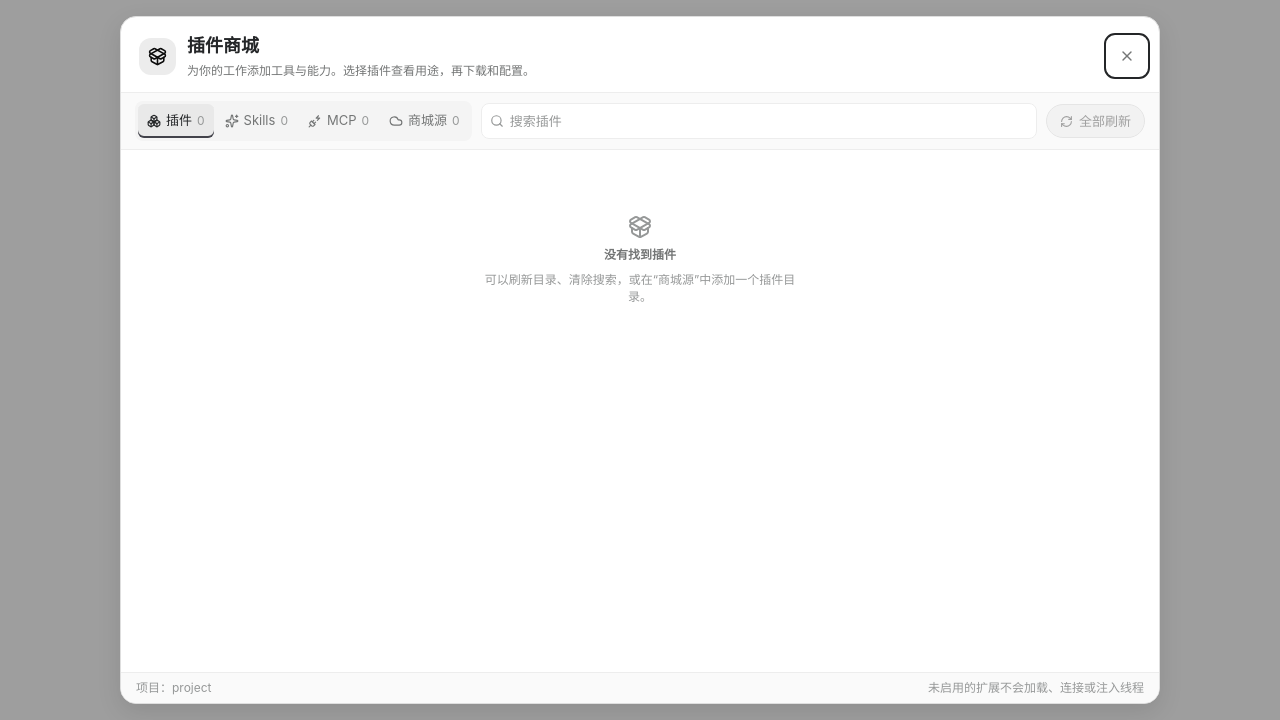
Test case: live MCP tool preview › updates an already open preview after refresh without reopening it
Click the button "MCP 0" at (339, 121), box [299, 104, 378, 138]
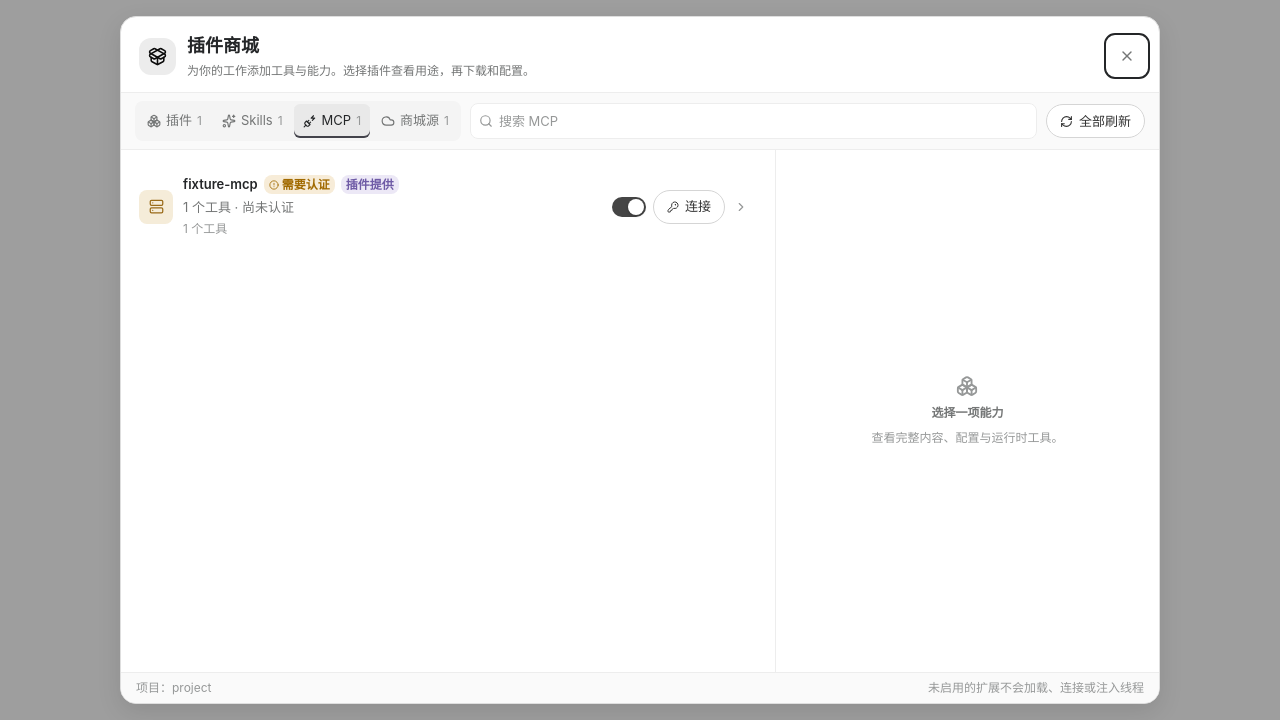
Click the button with aria-label "查看 fixture-mcp 详情" at (156, 206), box [132, 168, 605, 245]
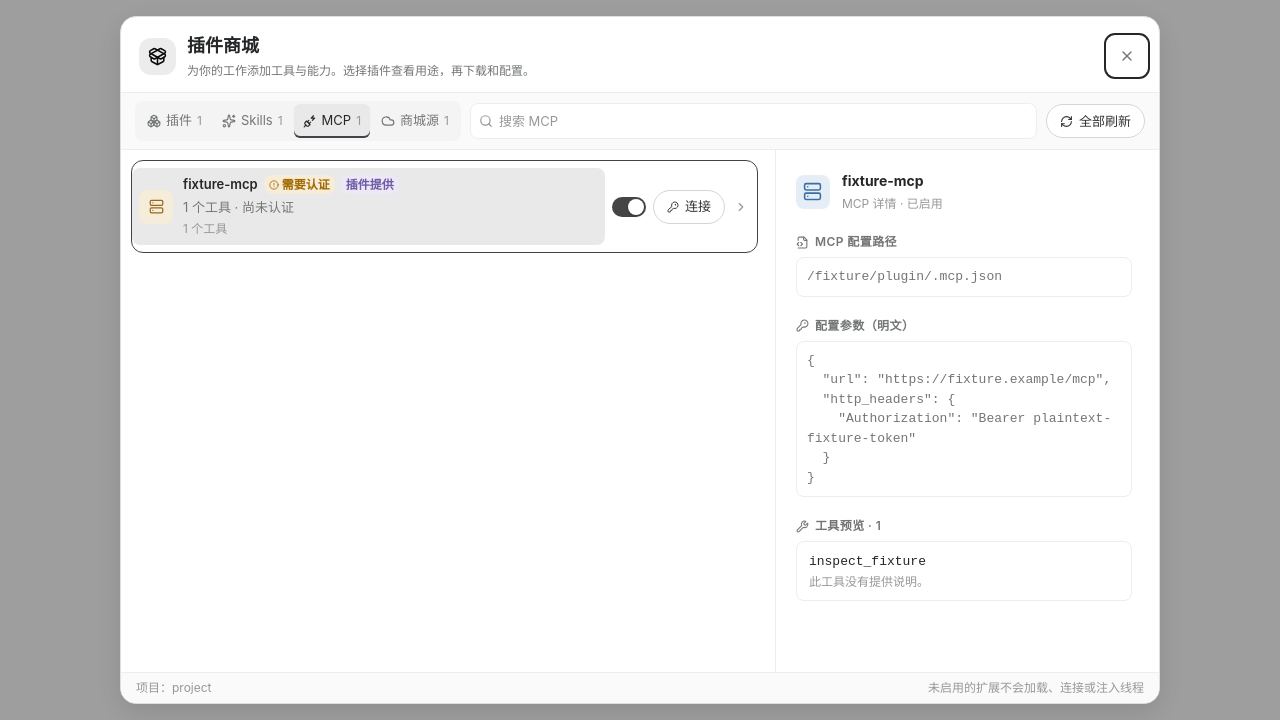
Expected: the text "inspect_fixture" is shown, [809, 552, 929, 572]
Click the button "全部刷新" at (1096, 121), box [1046, 104, 1145, 138]
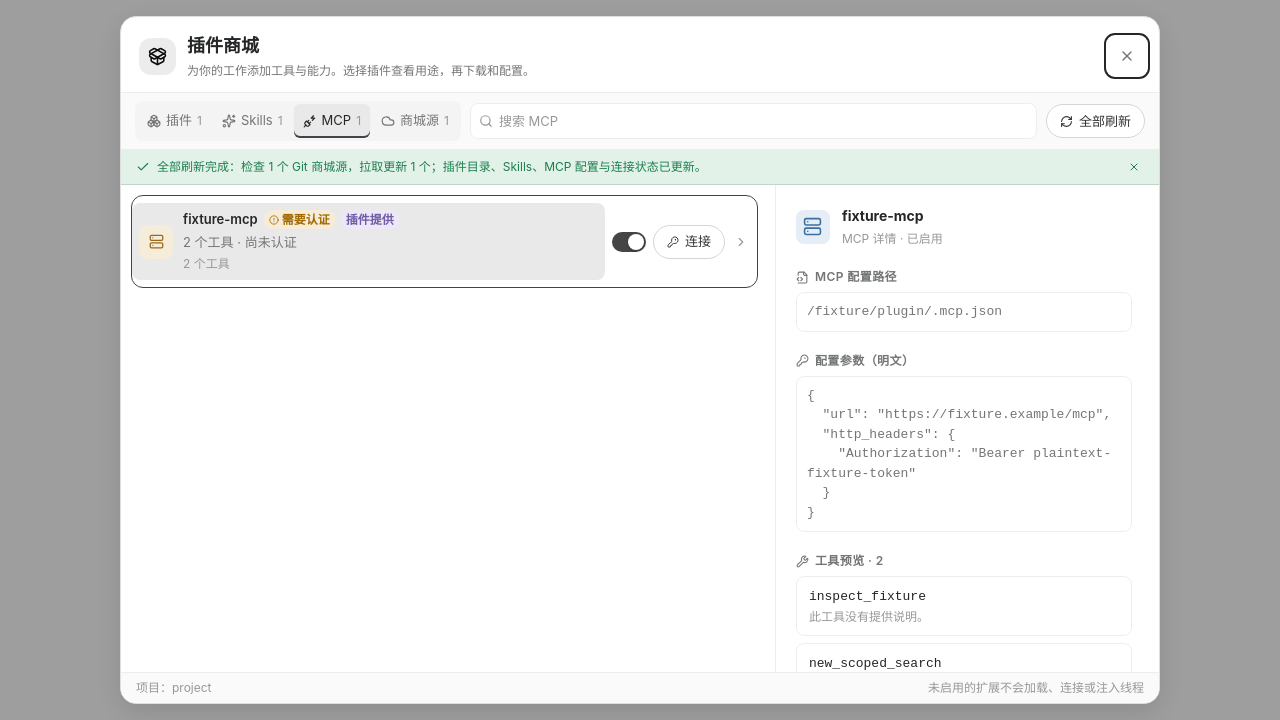
Expected: the text "new_scoped_search" is shown, [809, 654, 942, 672]
Expected: the heading "工具预览 · 2" is shown, [796, 553, 884, 568]
Click the button "全部刷新" at (1096, 121), box [1046, 104, 1145, 138]
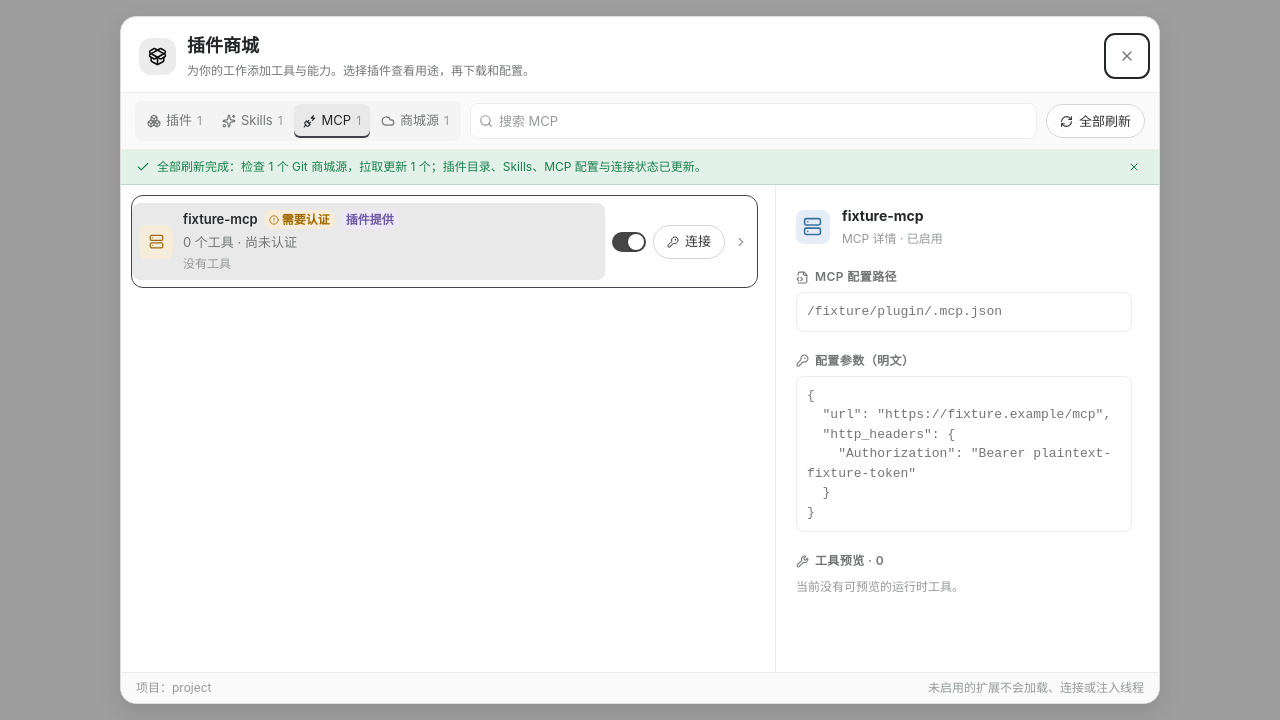
Expected: the text "new_scoped_search" is gone
Expected: the heading "工具预览 · 0" is shown, [796, 553, 884, 568]
